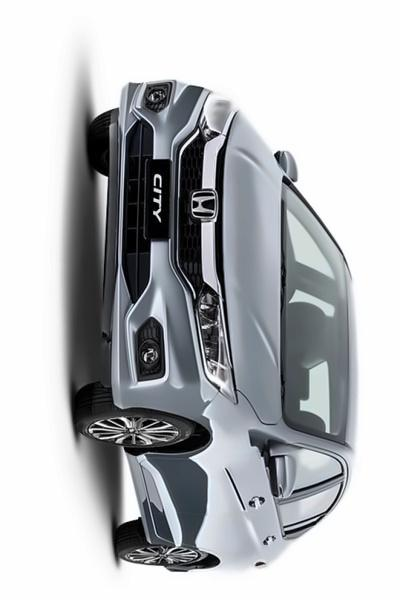Car hood: (219, 111, 284, 429)
Fender - -F-L-: (104, 386, 267, 487)
Front bumper: (98, 74, 220, 422)
Headlight - -L-: (190, 279, 239, 405)
Headlight - -R-: (197, 87, 238, 144)
Passenger-s door - -F-L-: (115, 431, 351, 507)
Passenger-s door - -R-L-: (131, 469, 368, 548)
Side bumper - -L-: (111, 440, 180, 550)
Side mirror - -L-: (260, 446, 299, 501)
Side mirror - -R-: (271, 146, 302, 185)
